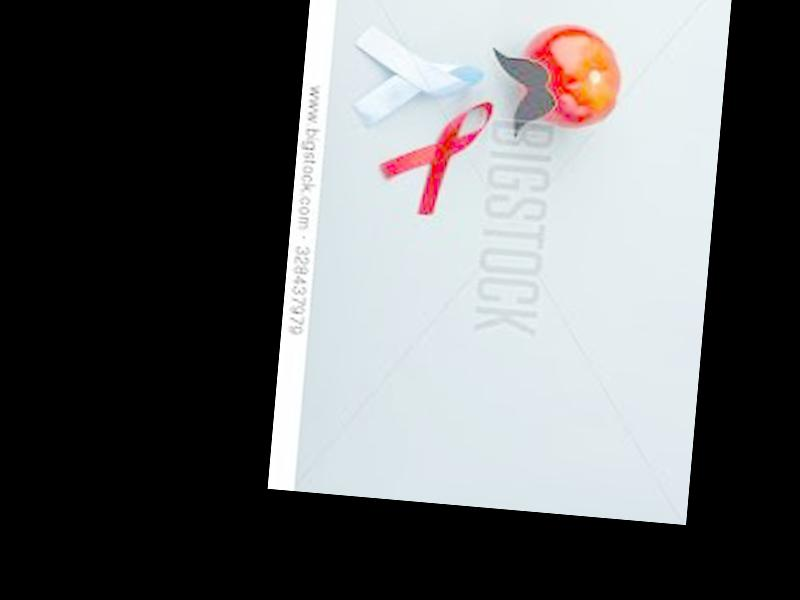Tomato: (515, 21, 626, 132)
